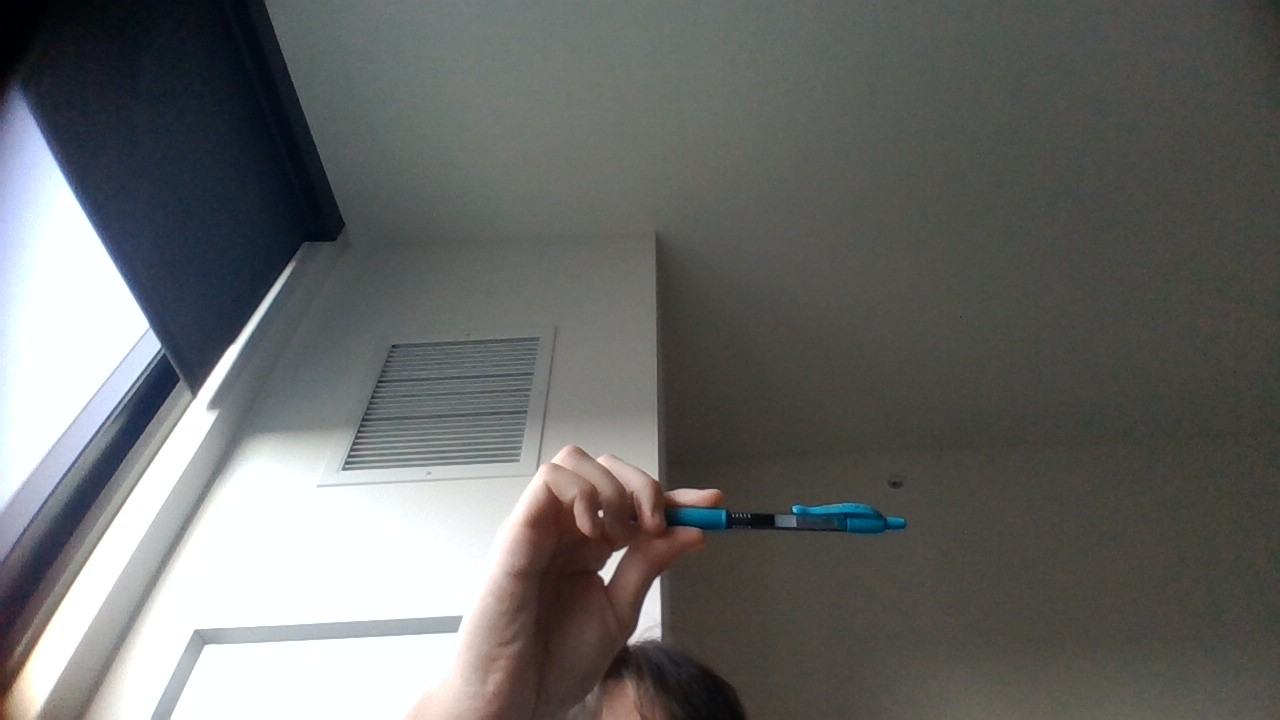Blue Pen: (668, 500, 904, 532)
